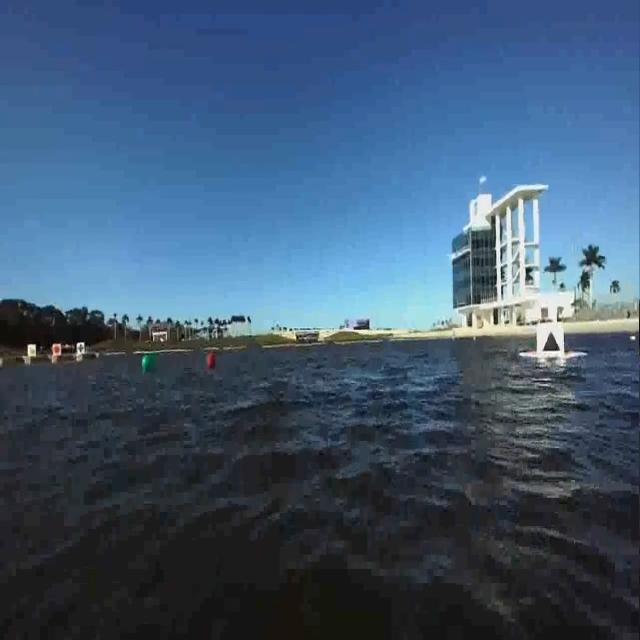green-buoy: (142, 354, 152, 371)
red-buoy: (207, 352, 217, 370)
